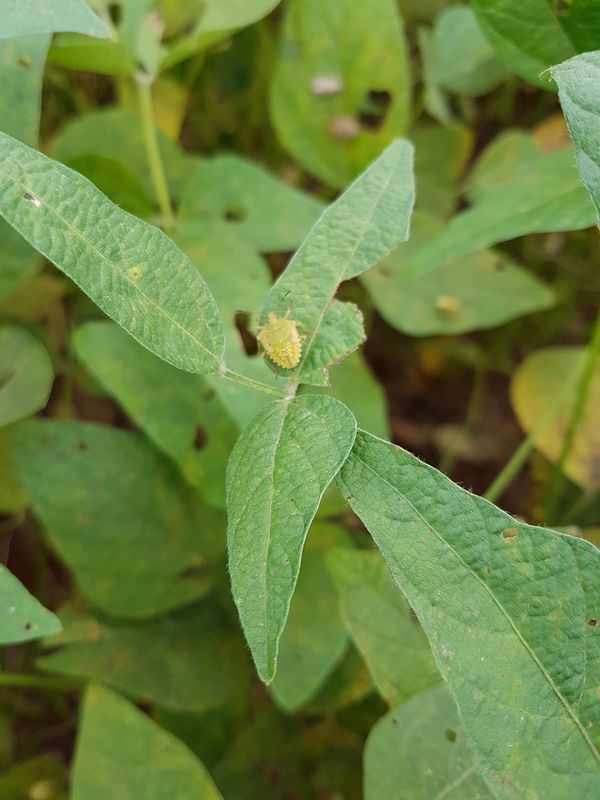Euschistus_heros_ninfa: (239, 298, 319, 386)
